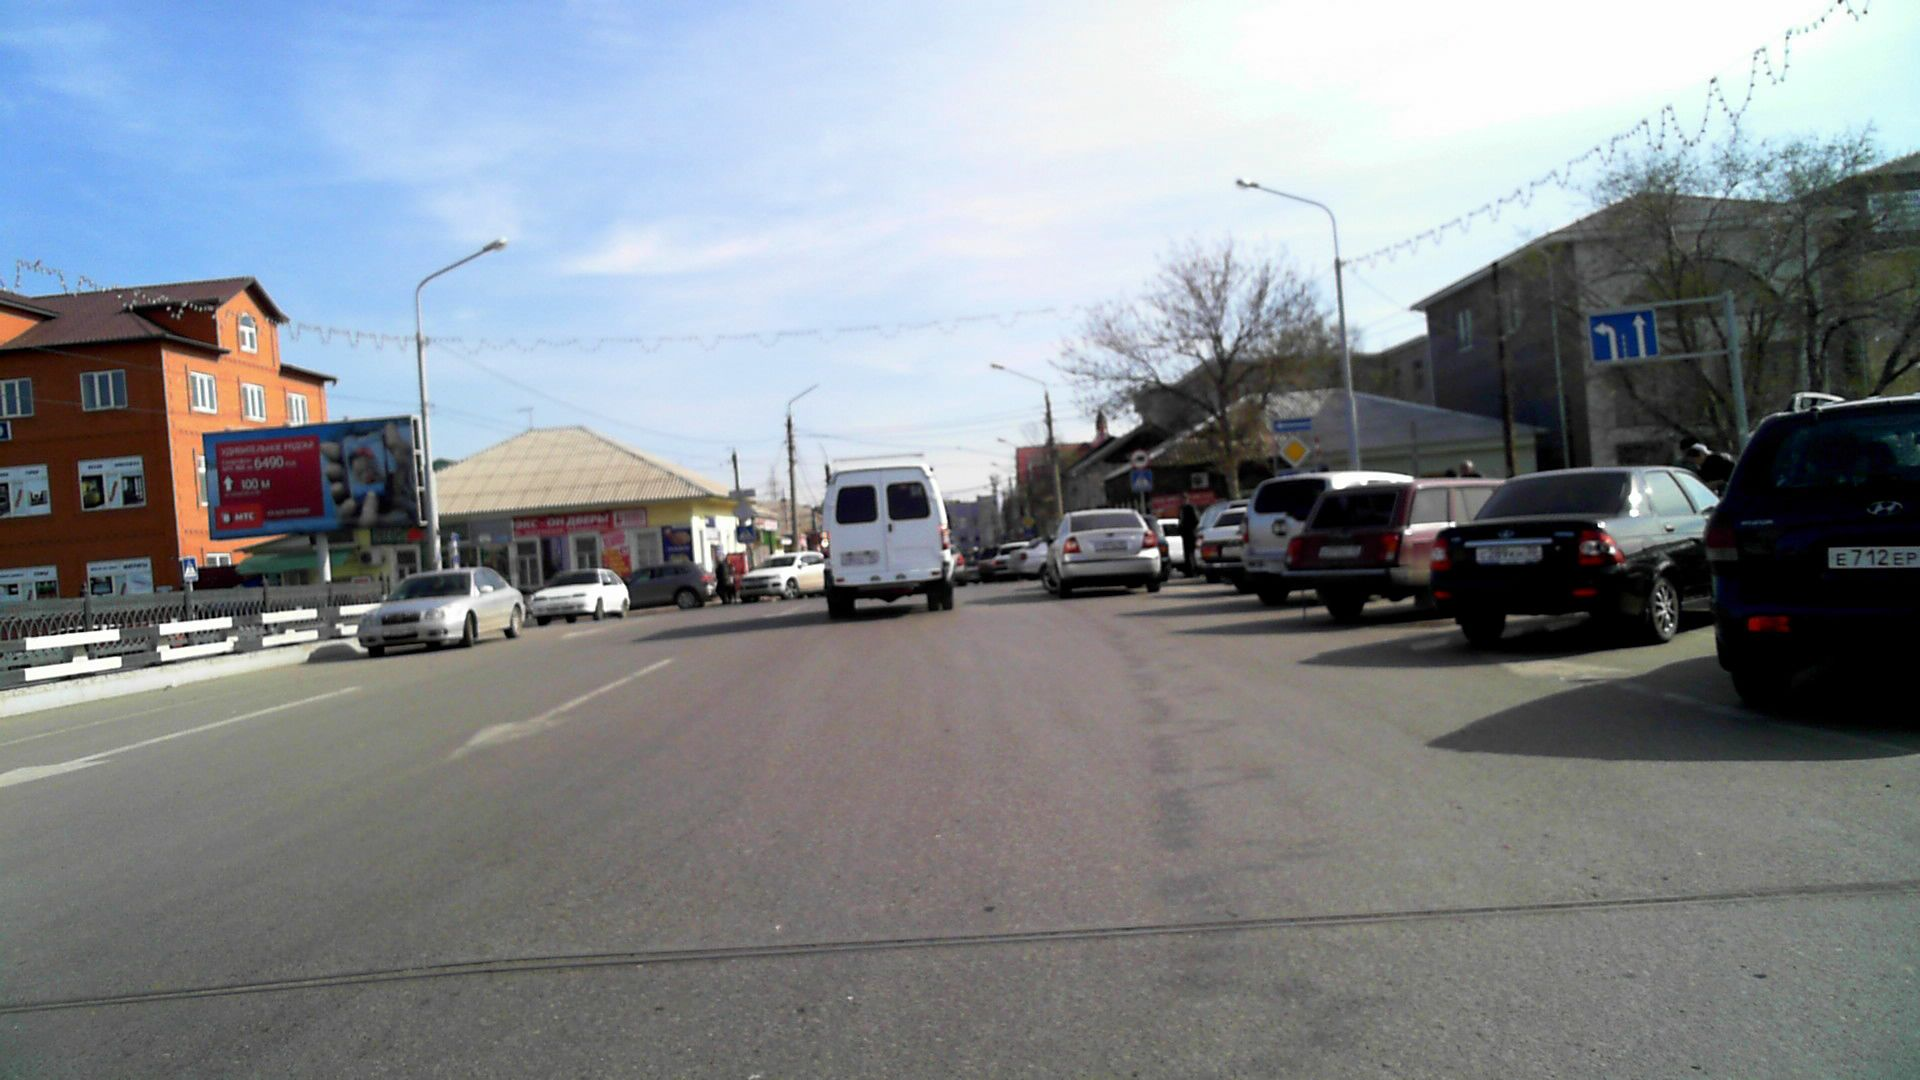One-Way Traffic: (1273, 419, 1311, 431)
